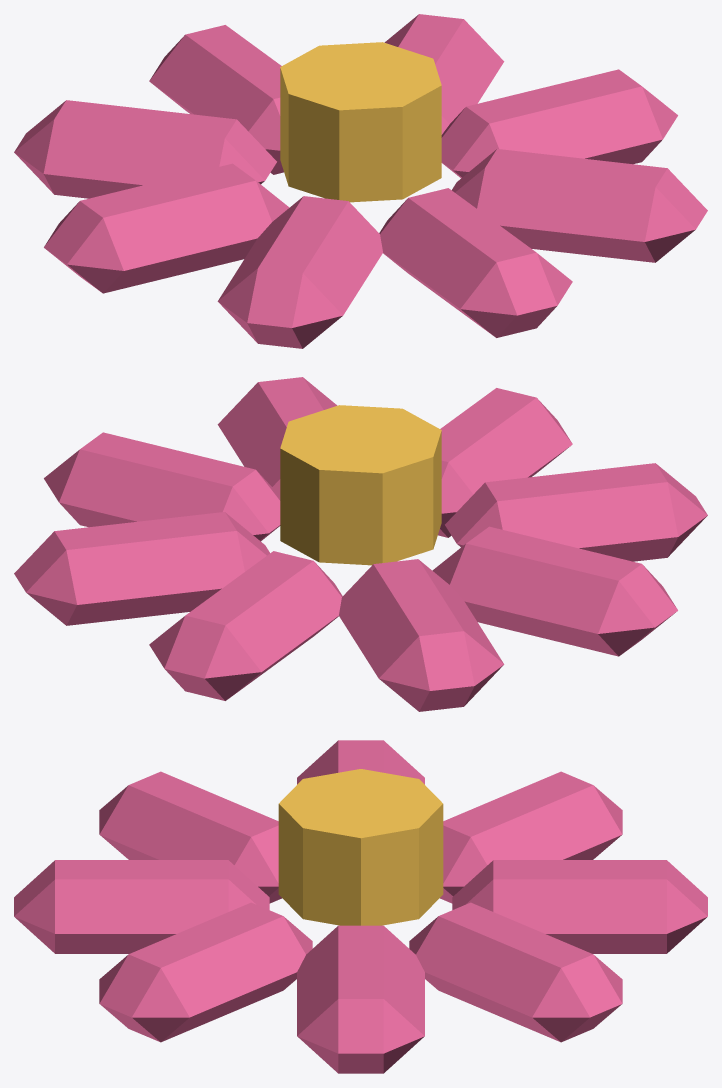
3 renders of one model, top to bottom at view 1: azimuth 30°, elevation 25°; view 2: azimuth 150°, elevation 25°; view 3: azimuth 270°, elevation 25°, orthographic.
Visible parts, largest first — view 1: Lotus center, Offering lotus petal.007, Offering lotus petal.004, Offering lotus petal.003, Offering lotus petal.005, Offering lotus petal.006, Offering lotus petal, Offering lotus petal.002, Offering lotus petal.001; view 2: Lotus center, Offering lotus petal.001, Offering lotus petal.004, Offering lotus petal.005, Offering lotus petal.003, Offering lotus petal.002, Offering lotus petal, Offering lotus petal.006, Offering lotus petal.007; view 3: Lotus center, Offering lotus petal.002, Offering lotus petal.006, Offering lotus petal.001, Offering lotus petal.007, Offering lotus petal, Offering lotus petal.003, Offering lotus petal.005, Offering lotus petal.004.
Part boxes in pixels (x1,y1,x2,y2): Lotus center: (280, 42, 441, 202); Offering lotus petal.007: (452, 149, 707, 262); Offering lotus petal.004: (44, 163, 289, 293); Offering lotus petal.003: (14, 100, 276, 198); Offering lotus petal.005: (217, 196, 382, 348); Offering lotus petal.006: (379, 188, 572, 337); Offering lotus petal: (441, 69, 677, 178); Offering lotus petal.002: (149, 25, 283, 174); Offering lotus petal.001: (384, 14, 504, 134); Lotus center: (280, 405, 441, 565); Offering lotus petal.001: (14, 512, 269, 625); Offering lotus petal.004: (432, 526, 677, 656); Offering lotus petal.005: (445, 463, 707, 561); Offering lotus petal.003: (339, 559, 504, 711); Offering lotus petal.002: (149, 551, 342, 700); Offering lotus petal: (44, 432, 280, 541); Offering lotus petal.006: (438, 388, 572, 537); Offering lotus petal.007: (217, 377, 337, 497); Lotus center: (278, 769, 443, 925); Offering lotus petal.002: (452, 860, 707, 953); Offering lotus petal.006: (14, 860, 269, 953); Offering lotus petal.001: (409, 902, 622, 1042); Offering lotus petal.007: (99, 902, 312, 1042); Offering lotus petal: (297, 925, 424, 1073); Offering lotus petal.003: (440, 771, 622, 903); Offering lotus petal.005: (99, 771, 281, 903); Offering lotus petal.004: (297, 740, 424, 784).
Size of the model in its own units: 38 by 8.5 by 38.
